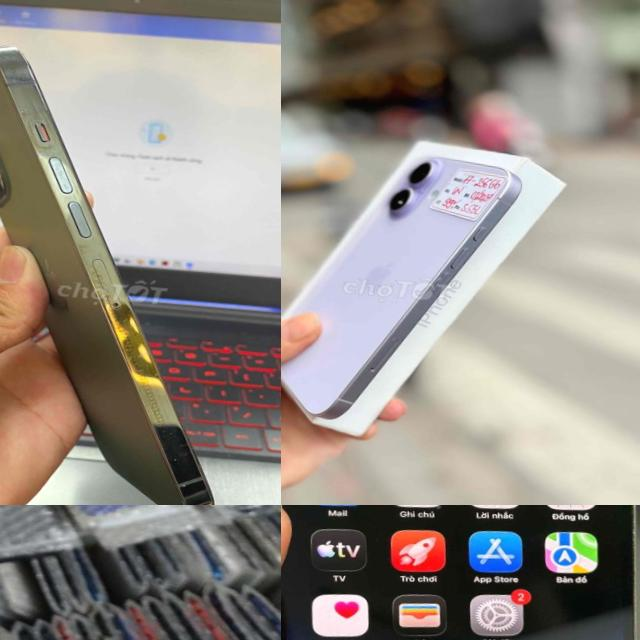gen_12_13: (0, 24, 279, 505)
gen_14: (281, 505, 640, 640)
gen_17: (281, 134, 525, 444)
scratch: (64, 243, 184, 427), (0, 51, 55, 113), (158, 429, 202, 476)
